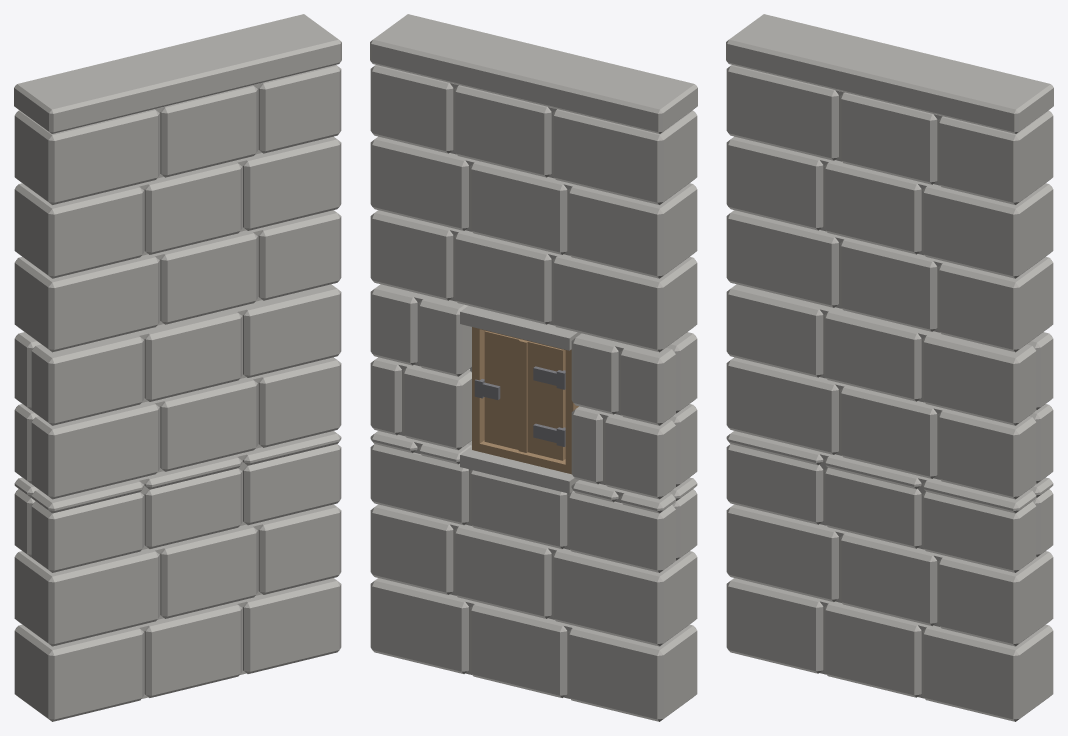
The model's file is wall-chapel-ambry.fbx.
The picture shows the model from 3 angles, left to right: view 1: azimuth 30°, elevation 25°; view 2: azimuth 150°, elevation 25°; view 3: azimuth 330°, elevation 25°; orthographic projection.
Visible parts, largest first — view 1: wall-chapel-ambry; view 2: wall-chapel-ambry; view 3: wall-chapel-ambry.
Boxes of the visible parts, <box> form: wall-chapel-ambry: <box>14,14,341,721</box>; wall-chapel-ambry: <box>370,14,697,721</box>; wall-chapel-ambry: <box>726,14,1053,721</box>.
Bounding box in the file's own units: 1.5 × 3 × 0.34.
